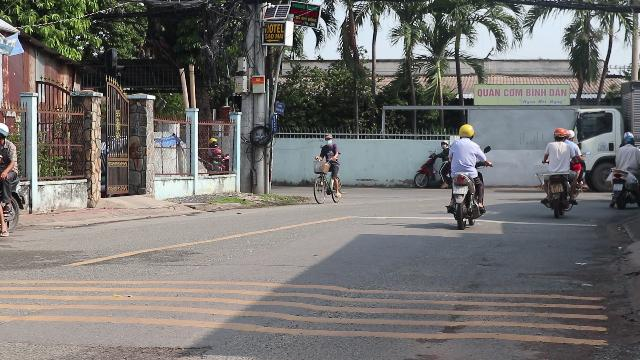helmet: (458, 124, 474, 138)
licenseplate: (453, 186, 467, 192)
motorcyclist: (443, 122, 487, 228)
